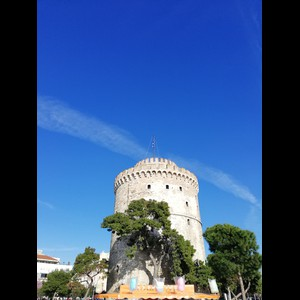White Tower: (106, 131, 206, 287)
